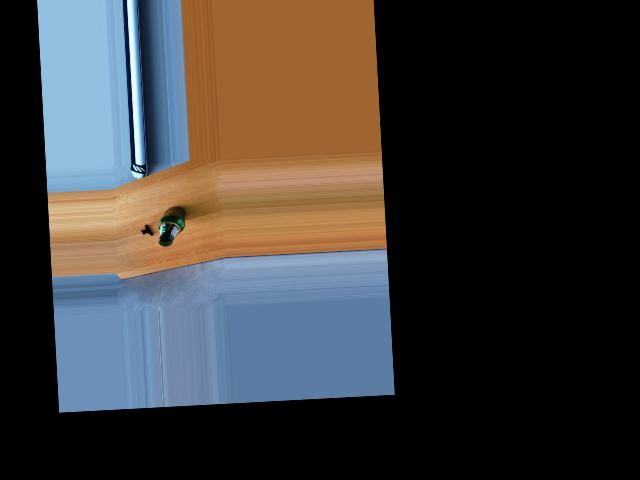beer: (156, 205, 187, 246)
